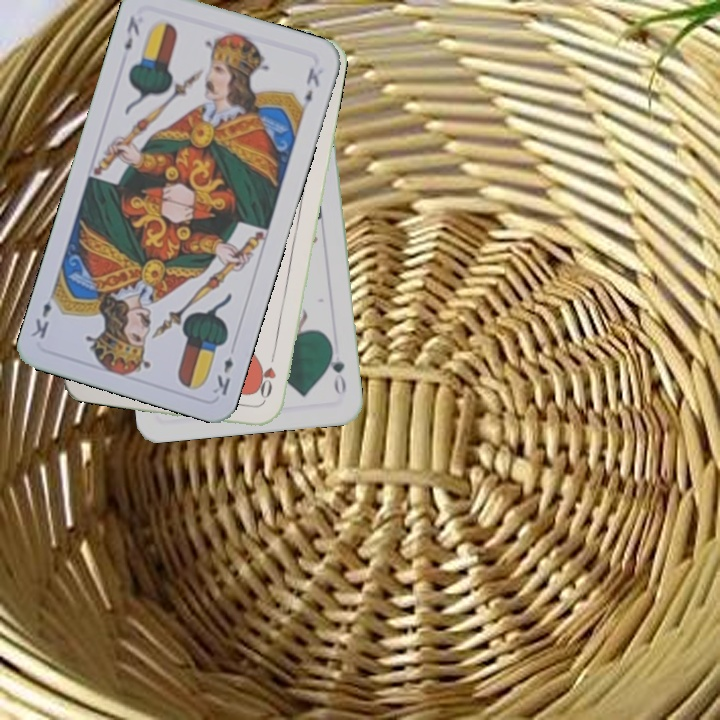EK: (209, 353, 236, 398), (120, 12, 143, 53)
GO: (324, 341, 349, 399)
HO: (256, 346, 279, 405)
